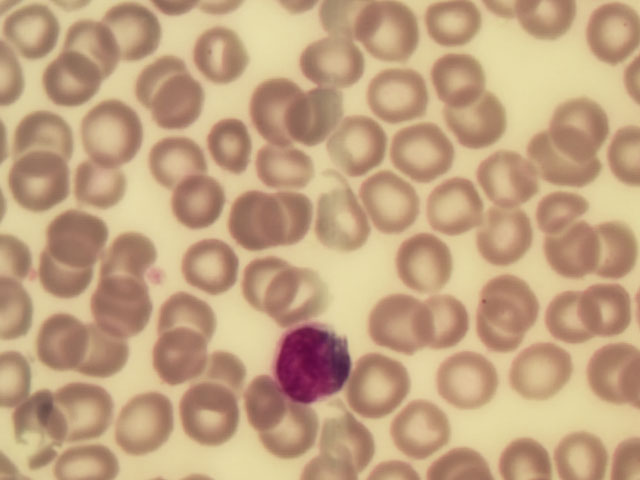Platelets: (149, 270, 168, 287)
RBC: (5, 4, 65, 62), (40, 51, 100, 109), (64, 19, 124, 77), (95, 2, 155, 60), (130, 45, 190, 103), (148, 74, 208, 132), (82, 105, 142, 163), (16, 103, 76, 161), (13, 147, 73, 205), (75, 147, 135, 205), (50, 207, 110, 265), (32, 245, 92, 303), (29, 309, 89, 367), (66, 321, 126, 379), (92, 273, 152, 331), (94, 232, 154, 290), (140, 328, 200, 386), (160, 288, 220, 346), (176, 233, 236, 291), (163, 177, 223, 235), (151, 134, 211, 192), (198, 117, 258, 175), (192, 25, 252, 83), (250, 73, 310, 131), (257, 136, 317, 194), (266, 193, 326, 251), (227, 189, 287, 247), (237, 256, 297, 314), (268, 265, 328, 323), (194, 339, 254, 397), (177, 386, 237, 444), (119, 393, 179, 451), (53, 379, 113, 437), (14, 394, 74, 452), (49, 422, 109, 480), (261, 405, 321, 463), (239, 373, 299, 431), (325, 416, 385, 474), (343, 356, 403, 414), (371, 290, 431, 348), (409, 288, 469, 346), (397, 239, 457, 297), (362, 176, 422, 234), (322, 187, 382, 245), (320, 116, 380, 174), (290, 82, 350, 140), (301, 34, 361, 92), (362, 2, 422, 60), (369, 61, 429, 119), (393, 117, 453, 175), (425, 179, 485, 237), (444, 85, 504, 143), (429, 44, 489, 102), (482, 149, 542, 207), (477, 210, 537, 268), (481, 269, 541, 327), (478, 303, 538, 361), (443, 352, 503, 410), (396, 394, 456, 452), (514, 343, 574, 401), (538, 282, 598, 340), (576, 280, 636, 338), (580, 215, 640, 273), (544, 217, 604, 275), (529, 188, 589, 246), (533, 133, 593, 191), (543, 93, 603, 151), (580, 5, 640, 63), (550, 422, 610, 480), (425, 1, 485, 58), (496, 434, 549, 480)
WBC: (276, 324, 350, 399)
